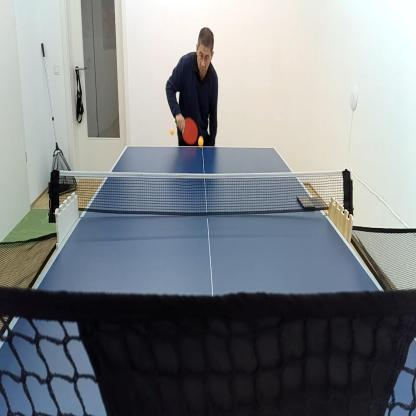Ball: (197, 135, 204, 148), (170, 126, 174, 136)
